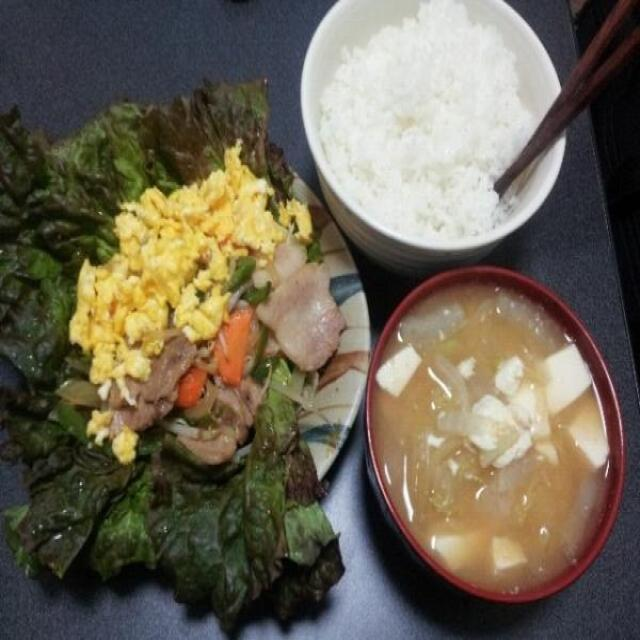Rice: (316, 3, 542, 239)
